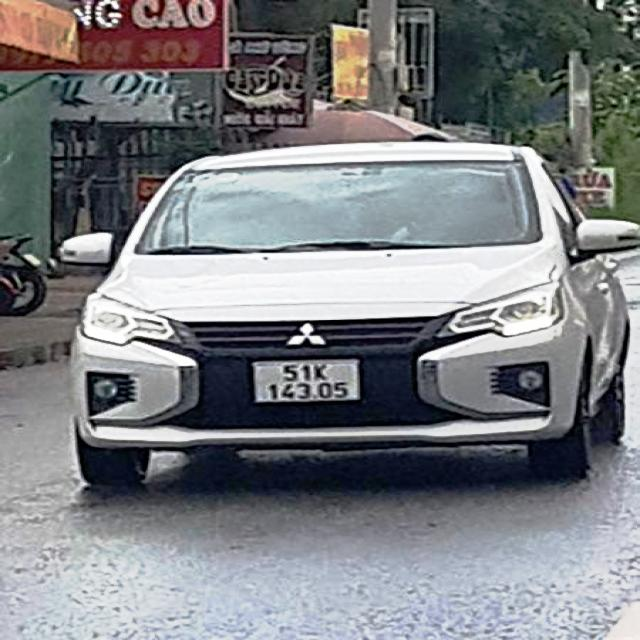license_plate: (255, 358, 362, 407)
